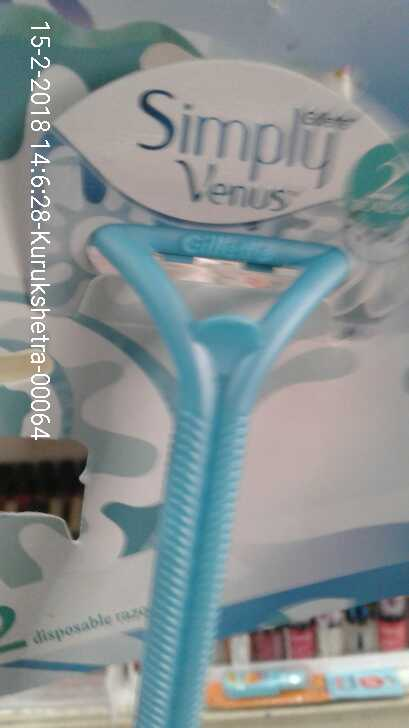venus: (67, 187, 359, 721)
